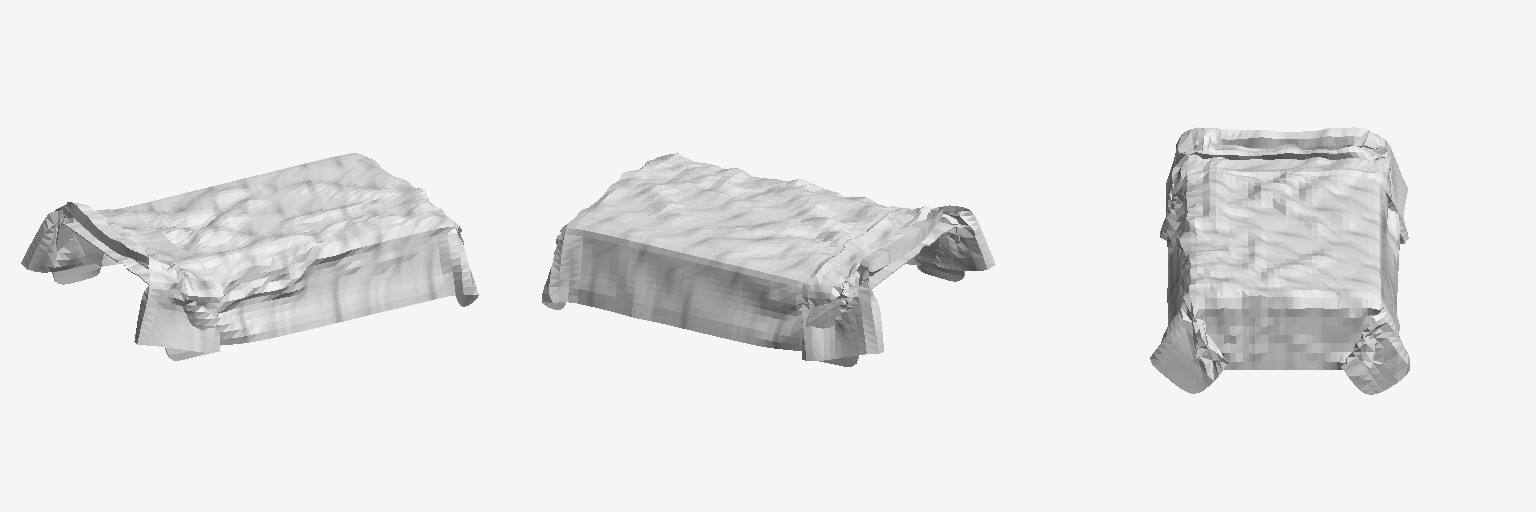
3 views of the same model, side by side, from view 1: azimuth 30°, elevation 25°; view 2: azimuth 150°, elevation 25°; view 3: azimuth 270°, elevation 25° (orthographic).
Bounding box in the file's own units: 692 × 225 × 450.
Materials: 1 (1 with a texture image).